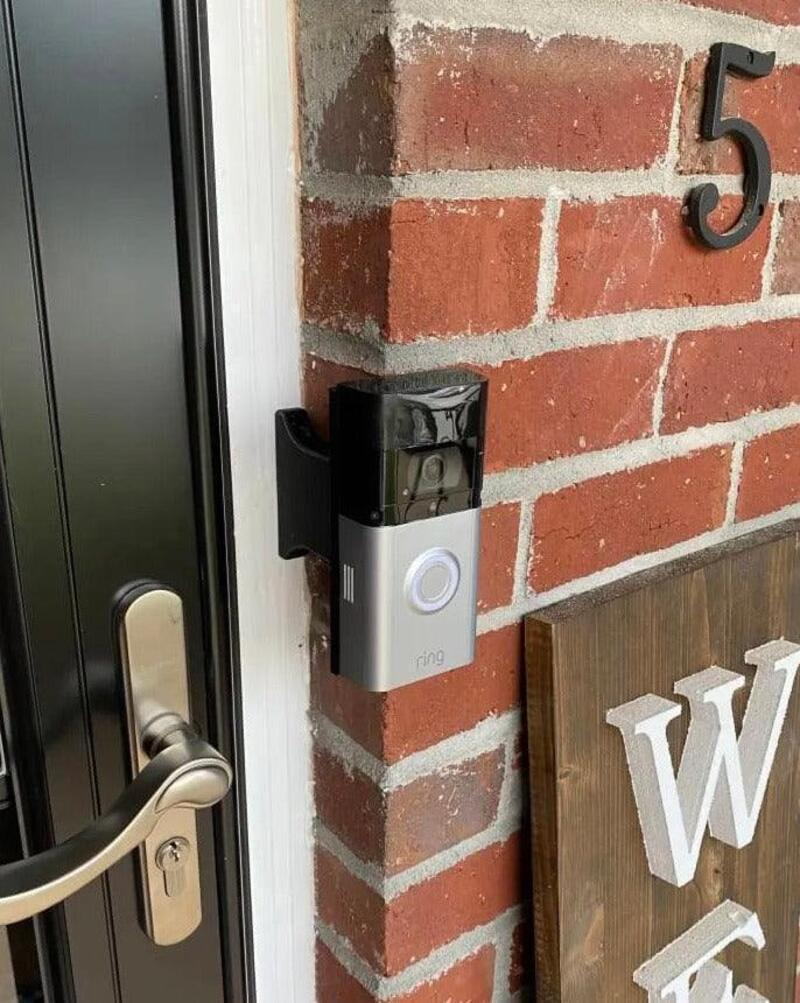doorbell: (331, 365, 486, 682)
